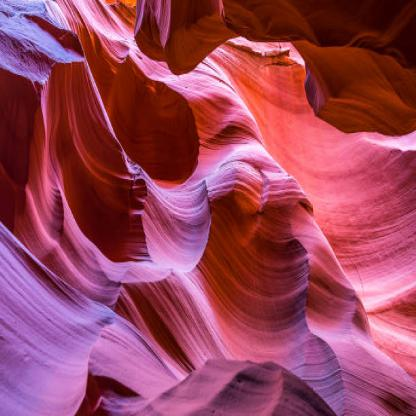Sedimentary_Sandstone: (135, 3, 415, 141), (0, 13, 104, 279), (199, 162, 365, 317), (0, 296, 110, 410), (143, 350, 338, 414)
